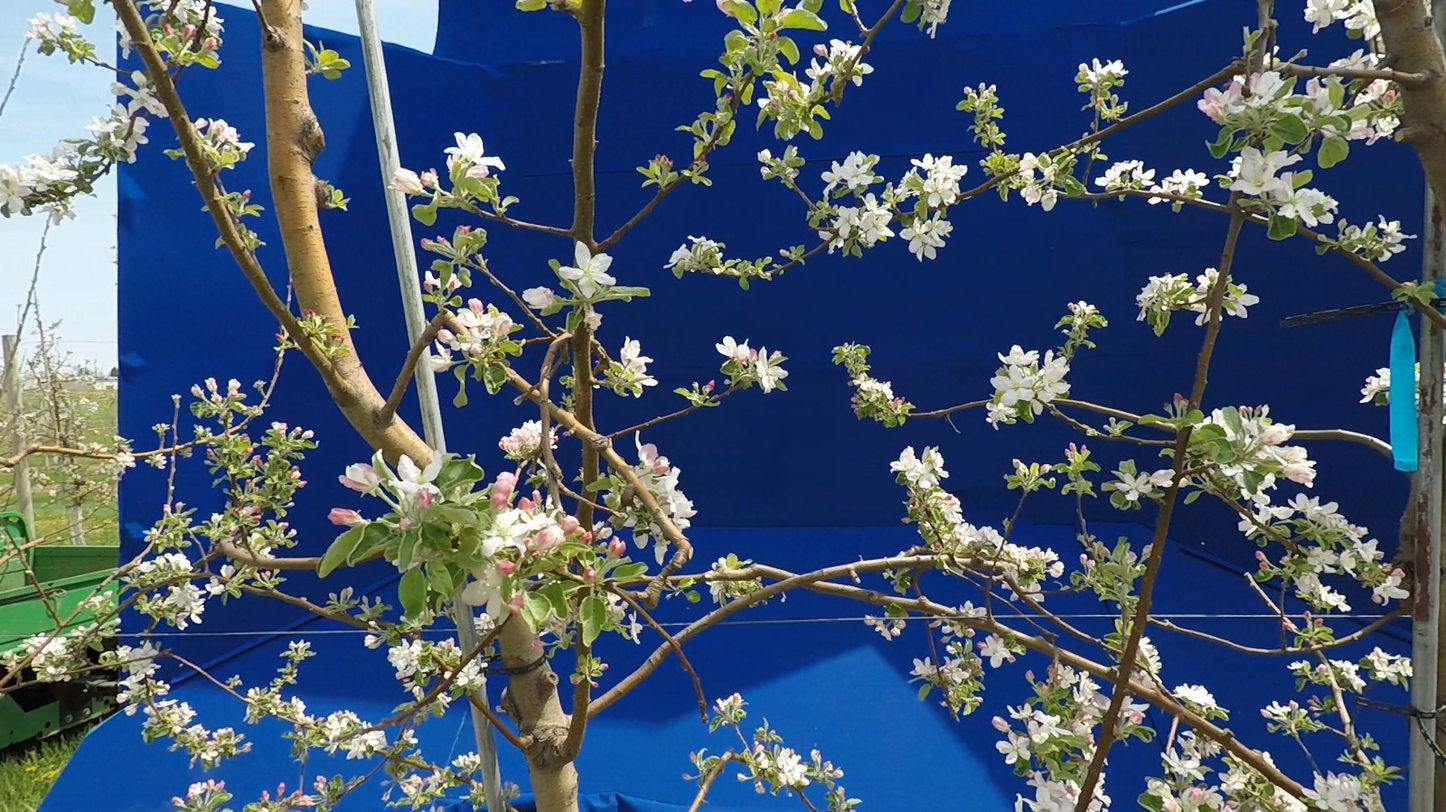flower: (462, 472, 582, 630), (1220, 464, 1385, 563), (1223, 143, 1338, 228), (86, 61, 169, 163), (822, 152, 895, 255), (986, 346, 1071, 431), (630, 431, 698, 536), (0, 142, 89, 215), (1305, 0, 1381, 70), (1051, 662, 1112, 743), (929, 490, 1004, 555), (997, 704, 1075, 764), (1198, 71, 1287, 121), (438, 299, 518, 353), (1293, 547, 1357, 612), (895, 154, 967, 208), (559, 241, 616, 299), (1161, 730, 1226, 780), (1240, 405, 1314, 447), (1298, 771, 1372, 812), (445, 133, 506, 179), (1019, 154, 1068, 211), (900, 210, 953, 262), (1256, 445, 1317, 488), (1023, 770, 1082, 812), (999, 541, 1065, 578), (155, 578, 207, 624), (390, 450, 442, 494), (621, 337, 658, 398), (890, 446, 941, 490), (1113, 466, 1176, 501), (120, 640, 163, 686), (388, 167, 450, 198), (1304, 76, 1347, 117), (1367, 648, 1413, 686), (388, 639, 430, 680), (1170, 685, 1228, 713), (755, 347, 789, 394), (209, 119, 255, 153), (768, 749, 810, 786), (1346, 117, 1401, 145), (339, 462, 383, 497), (1151, 169, 1210, 195), (1095, 161, 1156, 186), (500, 420, 542, 456), (1373, 569, 1410, 606), (1174, 786, 1224, 812), (979, 633, 1016, 668), (800, 58, 832, 98), (853, 372, 894, 403), (1329, 660, 1366, 694), (346, 731, 390, 759), (717, 337, 758, 367), (1140, 638, 1164, 688), (1226, 283, 1260, 318), (39, 196, 77, 226), (1355, 79, 1393, 107), (862, 617, 906, 641), (1360, 369, 1391, 403), (1219, 760, 1253, 791), (154, 700, 196, 725), (1137, 276, 1169, 308), (1379, 215, 1414, 244), (32, 638, 67, 667), (137, 554, 193, 572), (427, 340, 455, 374), (940, 658, 972, 686), (174, 0, 206, 27), (1212, 409, 1237, 443), (456, 653, 481, 687), (1121, 696, 1150, 725), (115, 17, 134, 60), (830, 40, 862, 63), (664, 244, 694, 268), (1093, 59, 1129, 78), (189, 779, 225, 798), (523, 287, 554, 309), (1092, 773, 1112, 807), (28, 13, 52, 40), (941, 619, 975, 638), (717, 694, 745, 717), (326, 714, 349, 742), (292, 696, 314, 723), (930, 447, 949, 478), (1197, 268, 1220, 293), (1190, 303, 1214, 326), (55, 14, 80, 36), (911, 658, 937, 679), (328, 509, 360, 526), (1378, 244, 1406, 263), (453, 752, 481, 770), (1238, 513, 1258, 537), (629, 611, 643, 645), (584, 306, 603, 331), (960, 602, 988, 618), (184, 725, 210, 741), (706, 581, 724, 603), (207, 7, 224, 30), (655, 542, 671, 566), (854, 57, 874, 76), (206, 576, 225, 596), (1025, 594, 1046, 612), (609, 537, 625, 557), (1267, 702, 1291, 715), (1020, 579, 1042, 593), (24, 638, 52, 649), (425, 271, 441, 289), (446, 274, 463, 290), (633, 533, 649, 549), (118, 453, 136, 467), (197, 750, 218, 761), (1078, 301, 1095, 314), (1086, 799, 1103, 812), (597, 527, 613, 540), (124, 703, 138, 716), (819, 230, 834, 241), (570, 282, 581, 294), (853, 76, 862, 87), (30, 204, 44, 210), (1103, 808, 1109, 812)
